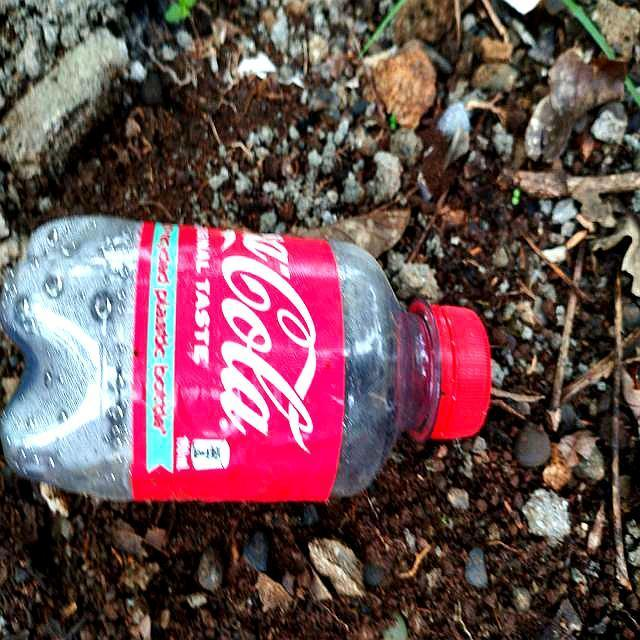Non-biodegradable: (5, 209, 501, 507)
